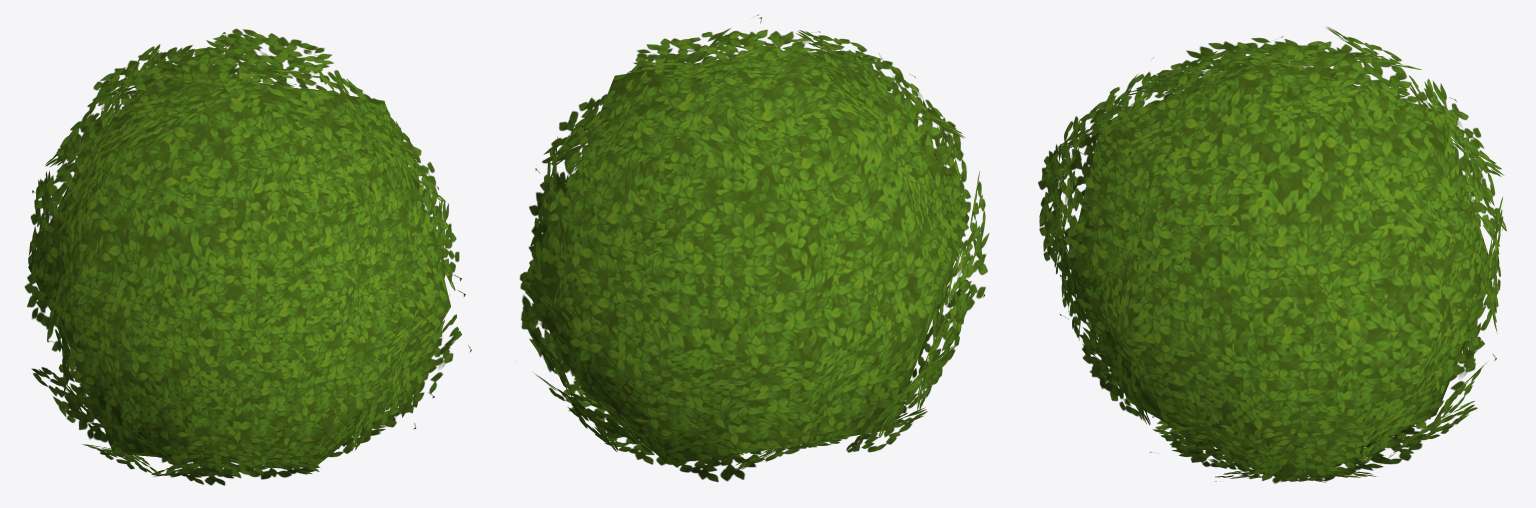
3 views of the same model, side by side, from view 1: azimuth 30°, elevation 25°; view 2: azimuth 150°, elevation 25°; view 3: azimuth 270°, elevation 25° (orthographic).
Parts seen in each view (by area): view 1: Bush_low; view 2: Bush_low; view 3: Bush_low.
Part boxes in pixels (x1=…): Bush_low: x1=24, y1=28, x2=471, y2=485; Bush_low: x1=519, y1=14, x2=989, y2=482; Bush_low: x1=1038, y1=27, x2=1506, y2=483.
Size of the model in its own units: 0.0569 by 0.0523 by 0.0606.
Materials: 1 (1 with a texture image).
